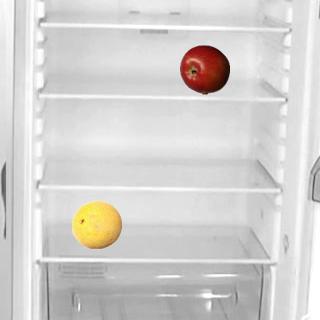Apple Braeburn: (179, 44, 229, 94)
Cantaloupe 1: (71, 199, 121, 249)
